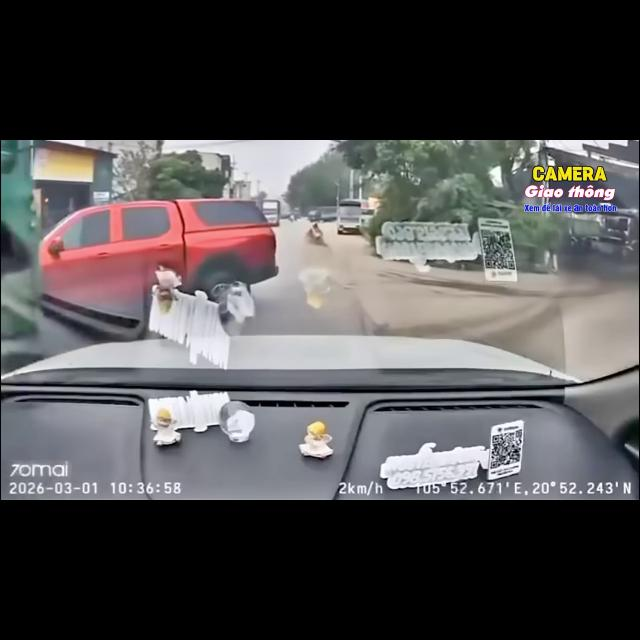car: (2, 336, 638, 499), (39, 199, 278, 339)
truck: (337, 199, 361, 234)
